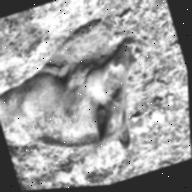boar: (0, 19, 178, 178)
